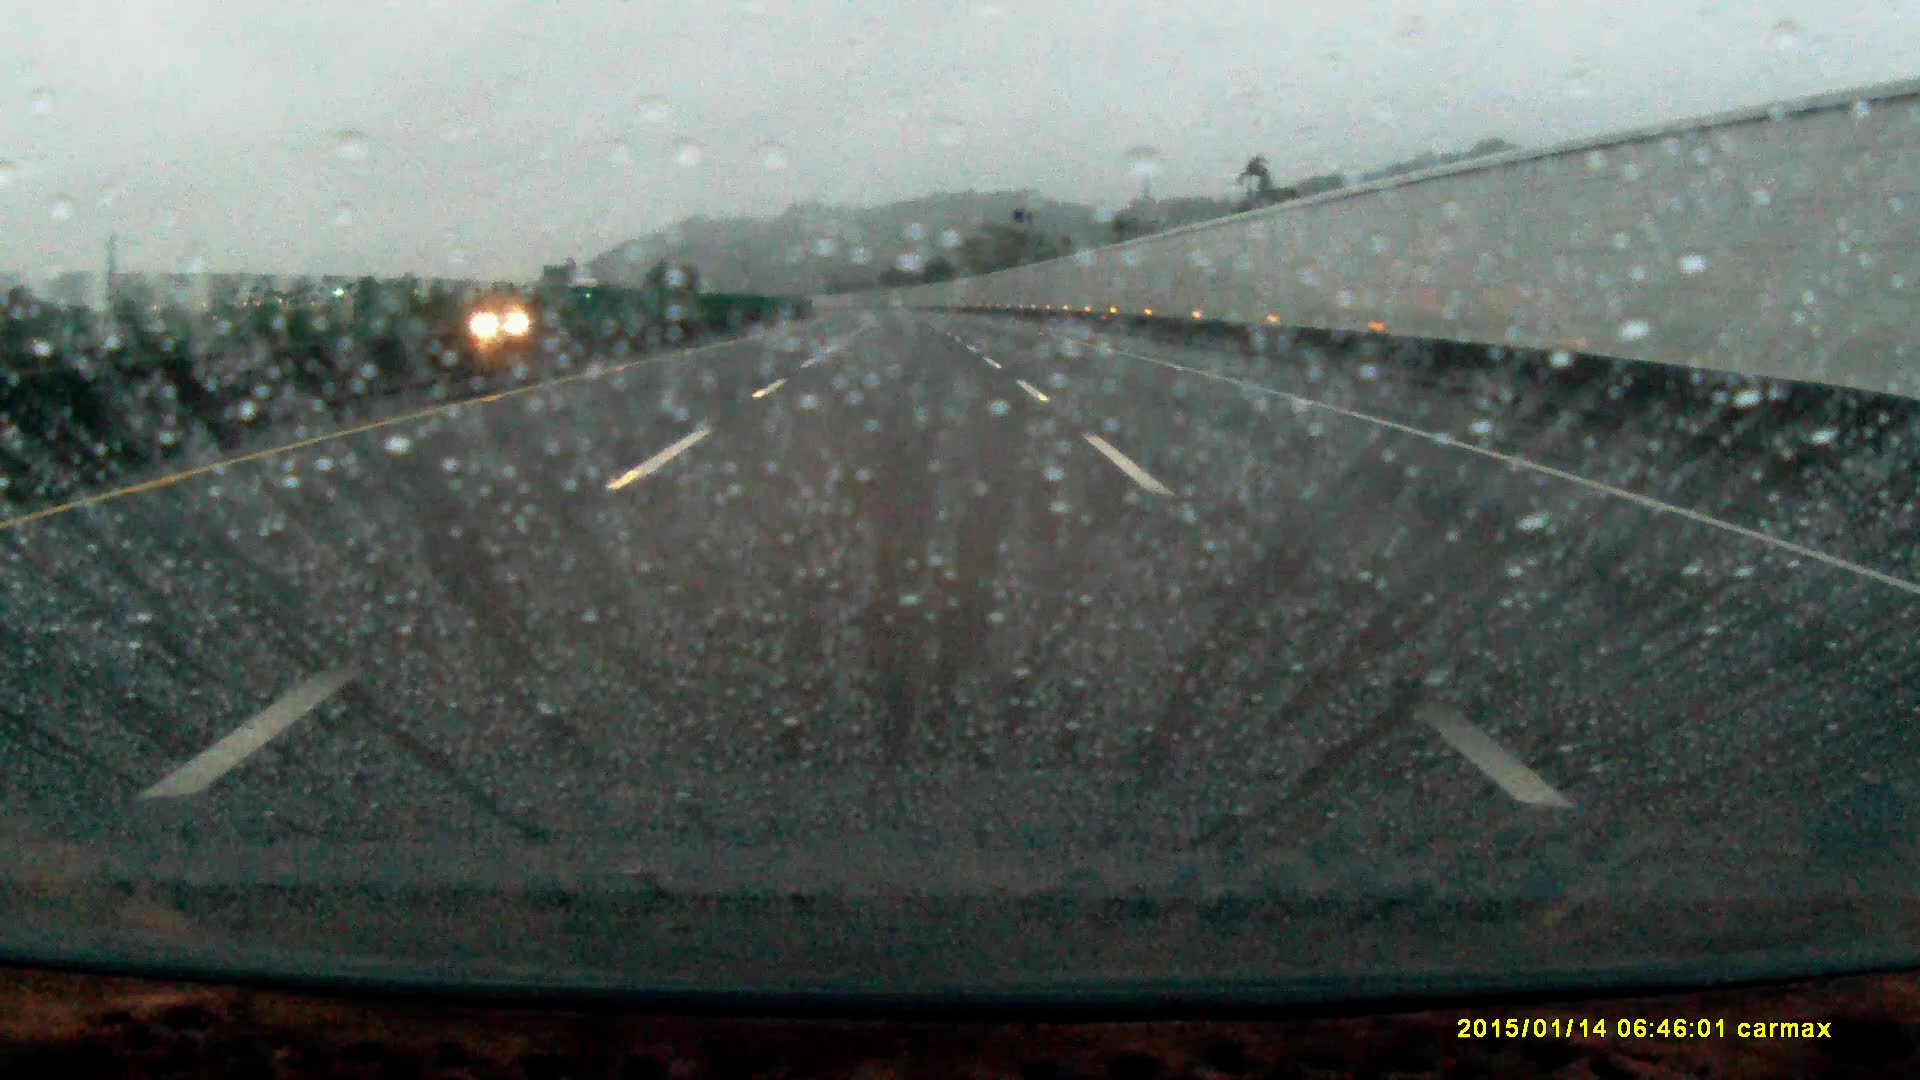vehicle: (471, 302, 551, 338)
